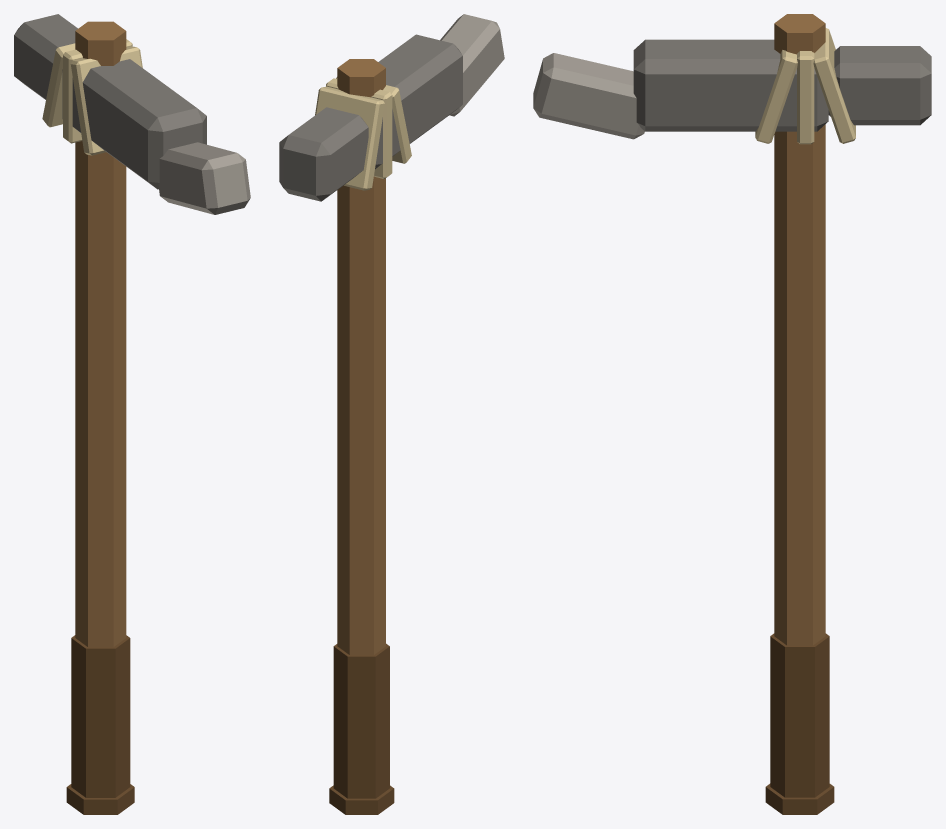
Rendered from pioche_pierre.glb.
3 views of the same model, side by side, from view 1: azimuth 30°, elevation 25°; view 2: azimuth 150°, elevation 25°; view 3: azimuth 270°, elevation 25° (orthographic). The views are drawn at different scales.
Parts seen in each view (by area): view 1: pioche_manche.004, pioche_silex.002, pioche_manche_sombre.004, pioche_silex_clair.002, pioche_ficelle.002; view 2: pioche_manche.004, pioche_silex.002, pioche_manche_sombre.004, pioche_ficelle.002, pioche_silex_clair.002; view 3: pioche_manche.004, pioche_silex.002, pioche_manche_sombre.004, pioche_silex_clair.002, pioche_ficelle.002.
Boxes of the visible parts, <box> form: pioche_manche.004: <box>75,21,126,647</box>; pioche_silex.002: <box>14,14,206,189</box>; pioche_manche_sombre.004: <box>66,635,134,814</box>; pioche_silex_clair.002: <box>158,142,250,214</box>; pioche_ficelle.002: <box>42,39,142,155</box>; pioche_manche.004: <box>337,59,385,655</box>; pioche_silex.002: <box>279,34,462,201</box>; pioche_manche_sombre.004: <box>329,643,394,814</box>; pioche_ficelle.002: <box>315,77,411,190</box>; pioche_silex_clair.002: <box>440,14,504,116</box>; pioche_manche.004: <box>774,14,825,645</box>; pioche_silex.002: <box>633,39,931,131</box>; pioche_manche_sombre.004: <box>765,633,834,814</box>; pioche_silex_clair.002: <box>533,53,644,139</box>; pioche_ficelle.002: <box>755,28,855,144</box>.
Bounding box in the file's own units: 0.065 × 0.75 × 0.3478.
